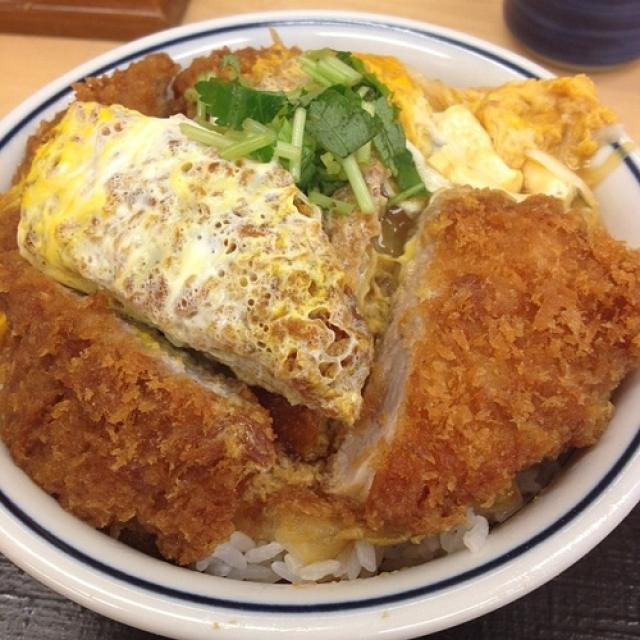牛肉菜式: (5, 32, 635, 584)
